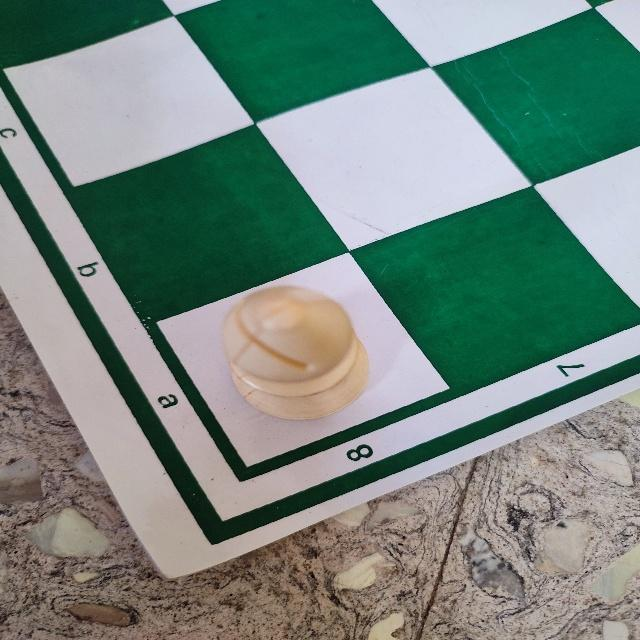Bishop: (219, 283, 376, 425)
